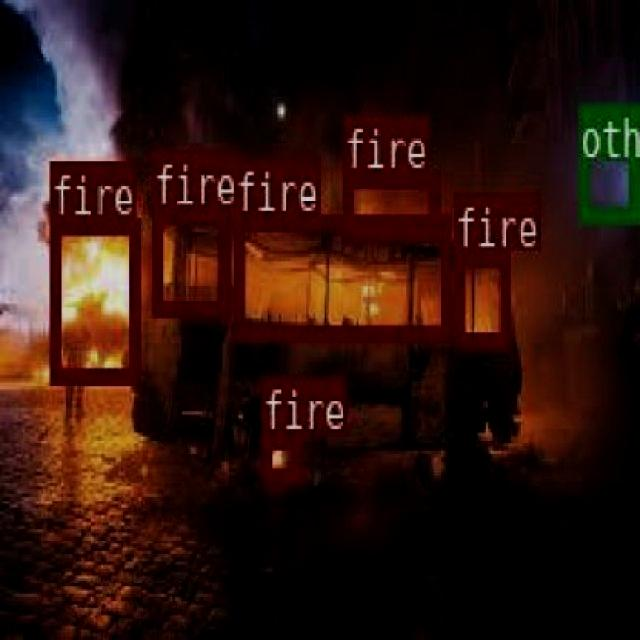fire: (234, 215, 448, 338), (49, 215, 138, 380), (150, 204, 228, 313), (342, 171, 438, 237), (451, 249, 507, 345), (258, 432, 300, 479)
